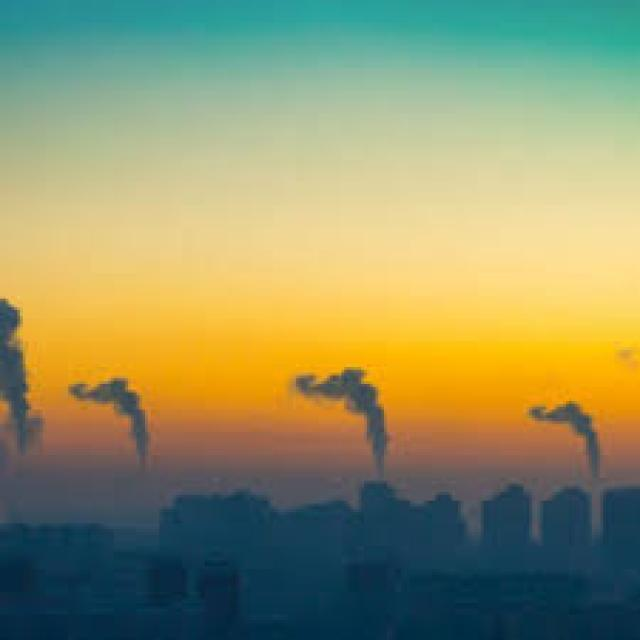Smoke: (291, 354, 391, 481), (65, 370, 156, 473), (528, 396, 606, 488), (0, 287, 43, 447)
